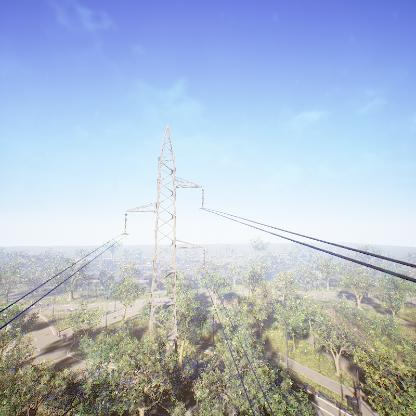tower: (121, 124, 206, 342)
